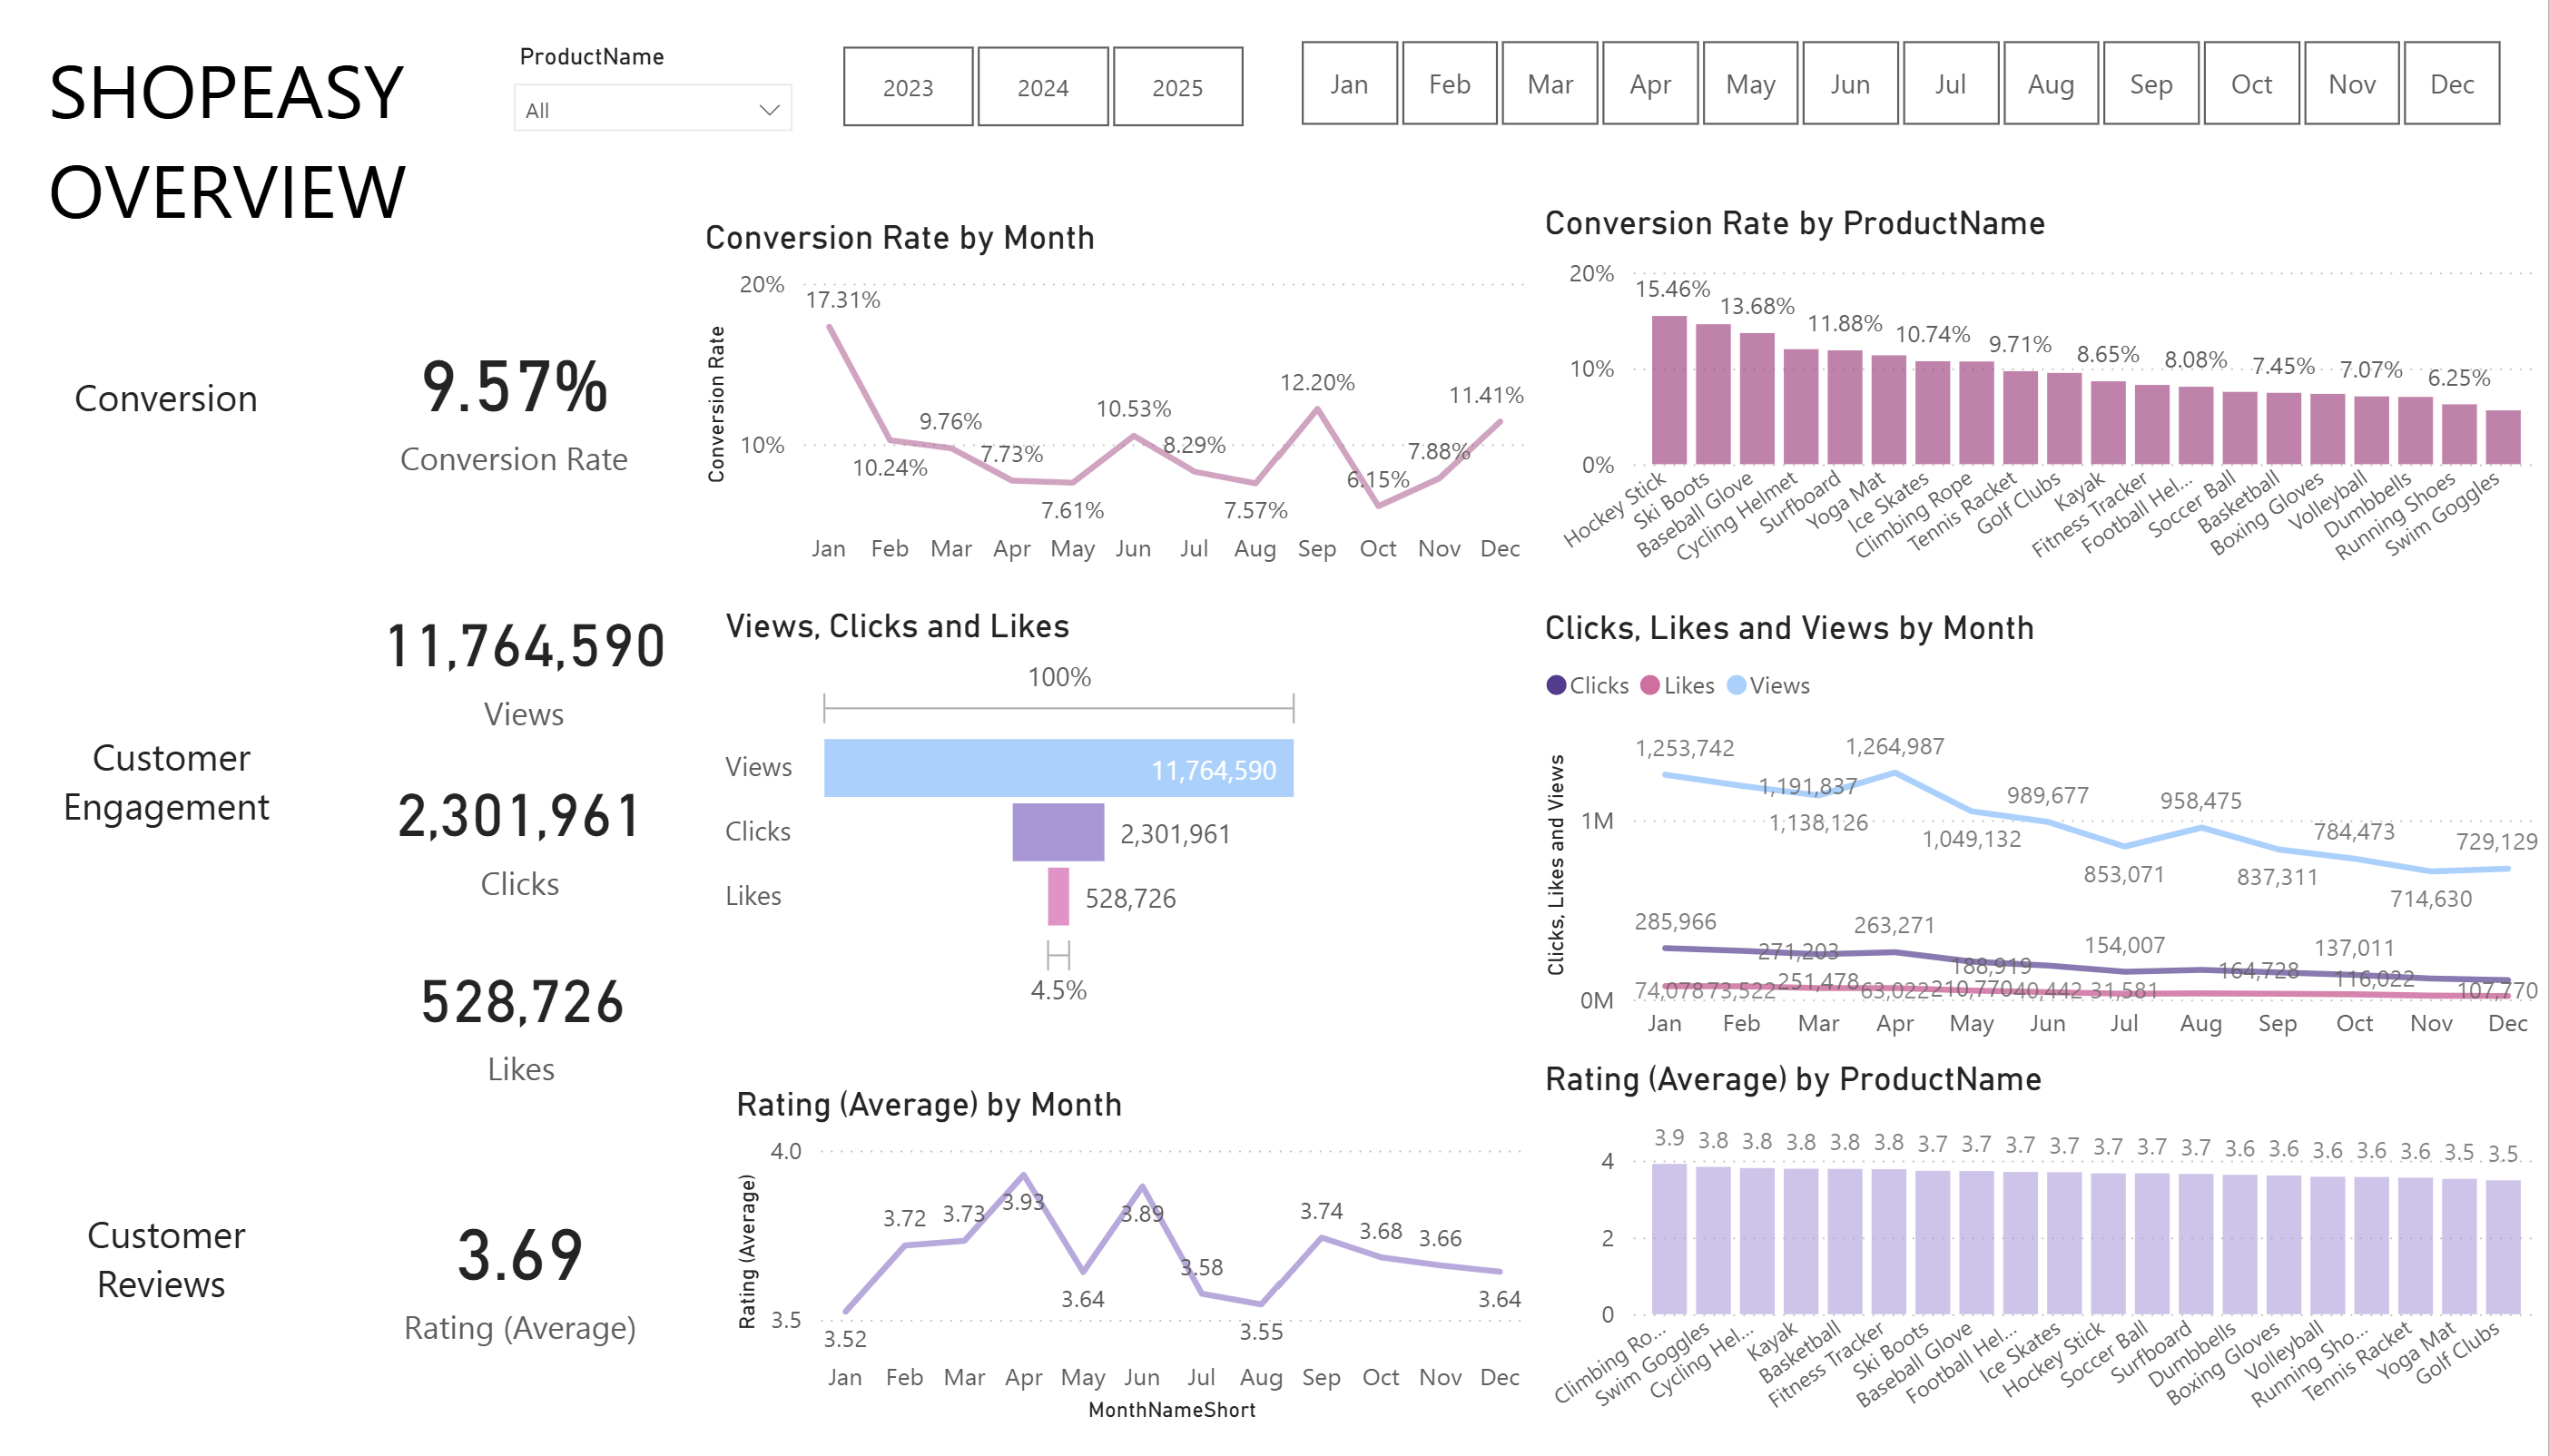

Layout of this report page (visuals, bound fields, positions):
{"tool":"powerbi","page":{"name":"overview","canvas":[1280,720],"ordinal":0},"visuals":[{"type":"slicer","fields":{"Values":["dim_products.ProductName"]},"box":[249,17,160,54],"z":0},{"type":"textbox","box":[0,110,174,163],"z":1000},{"type":"textbox","box":[0,273,174,239],"z":2000},{"type":"textbox","box":[0,512,174,207],"z":3000},{"type":"card","fields":{"Values":["_calculations (2).Conversion Rate"]},"box":[169,121,181,162],"z":4000},{"type":"card","fields":{"Values":["_calculations (2).Rating (Average)"]},"box":[174,556,176,164],"z":5000},{"type":"card","fields":{"Values":["_calculations (2).Likes"]},"box":[174,468,177,88],"z":6000},{"type":"card","fields":{"Values":["_calculations (2).Clicks"]},"box":[174,374,176,89],"z":7000},{"type":"card","fields":{"Values":["_calculations (2).Views"]},"box":[169,294,191,80],"z":8000},{"type":"slicer","fields":{"Values":["Calendar.MonthNameShort"]},"box":[628,15,652,56],"z":9000},{"type":"lineChart","title":"Conversion Rate by Month","fields":{"Y":["_calculations (2).Conversion Rate"],"Category":["Calendar.MonthNameShort"]},"box":[350,110,421,184],"z":10000},{"type":"clusteredColumnChart","fields":{"Category":["dim_products.ProductName"],"Y":["_calculations (2).Conversion Rate"]},"box":[771,103,509,191],"z":11000},{"type":"lineChart","title":"Clicks, Likes and Views by Month","fields":{"Category":["Calendar.MonthNameShort"],"Y":["_calculations (2).Clicks","_calculations (2).Likes","_calculations (2).Views"]},"box":[771,306,509,226],"z":12000},{"type":"funnel","fields":{"Y":["_calculations (2).Views","_calculations (2).Clicks","_calculations (2).Likes"]},"box":[360,305,300,207],"z":13000},{"type":"lineChart","title":"Rating (Average) by Month","fields":{"Y":["_calculations (2).Rating (Average)"],"Category":["Calendar.MonthNameShort"]},"box":[366,545,405,174],"z":14000},{"type":"clusteredColumnChart","fields":{"Category":["dim_products.ProductName"],"Y":["_calculations (2).Rating (Average)"]},"box":[771,532,509,187],"z":15000},{"type":"slicer","fields":{"Values":["Calendar.Year"]},"box":[398,17,251,54],"z":16000},{"type":"textbox","box":[20,15,210,141],"z":17000}]}

Visuals, with their boxes in screenshot pixels (x1, y1, x2, y2), scaled from the page's 1280x720 canvas onto the 2549x1456 screenshot:
slicer - dim_products.ProductName: 496,34,814,143
textbox: 0,222,347,552
textbox: 0,552,347,1036
textbox: 0,1036,347,1454
card - _calculations (2).Conversion Rate: 337,245,697,572
card - _calculations (2).Rating (Average): 347,1125,697,1455
card - _calculations (2).Likes: 347,947,699,1125
card - _calculations (2).Clicks: 347,756,697,936
card - _calculations (2).Views: 337,595,717,756
slicer - Calendar.MonthNameShort: 1251,30,2548,143
"Conversion Rate by Month" lineChart: 697,222,1535,595
clusteredColumnChart - dim_products.ProductName x _calculations (2).Conversion Rate: 1535,208,2548,595
"Clicks, Likes and Views by Month" lineChart: 1535,619,2548,1076
funnel - _calculations (2).Views x _calculations (2).Clicks: 717,616,1314,1036
"Rating (Average) by Month" lineChart: 729,1102,1535,1454
clusteredColumnChart - dim_products.ProductName x _calculations (2).Rating (Average): 1535,1076,2548,1454
slicer - Calendar.Year: 792,34,1293,143
textbox: 40,30,458,316
